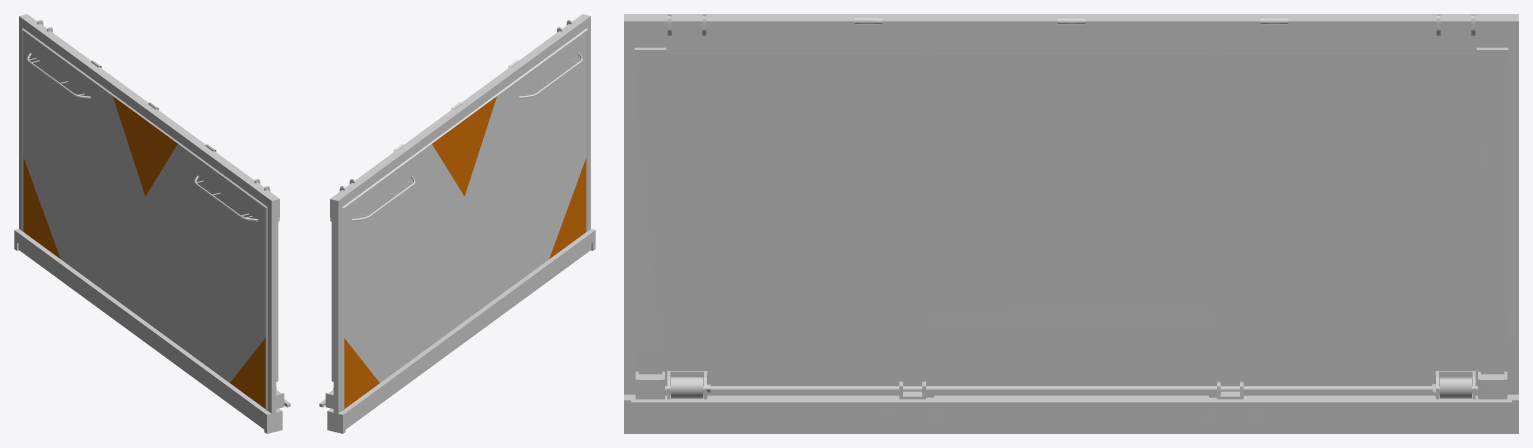
File: SM_H_Customiz_FoldDoor_01B_ATLAS.fbx
3 renders of one model, left to right at view 1: azimuth 30°, elevation 25°; view 2: azimuth 150°, elevation 25°; view 3: azimuth 270°, elevation 25°, orthographic. The views are drawn at different scales.
Visible parts, largest first — view 1: SM_H_Customiz_FoldDoor_01B_ATLAS; view 2: SM_H_Customiz_FoldDoor_01B_ATLAS; view 3: SM_H_Customiz_FoldDoor_01B_ATLAS.
Boxes of the visible parts, x1,y1,x2,y2 form: SM_H_Customiz_FoldDoor_01B_ATLAS: [14, 14, 290, 433]; SM_H_Customiz_FoldDoor_01B_ATLAS: [319, 14, 595, 433]; SM_H_Customiz_FoldDoor_01B_ATLAS: [624, 14, 1518, 433].
Size of the model in its own units: 80.33 by 1090 by 558.
